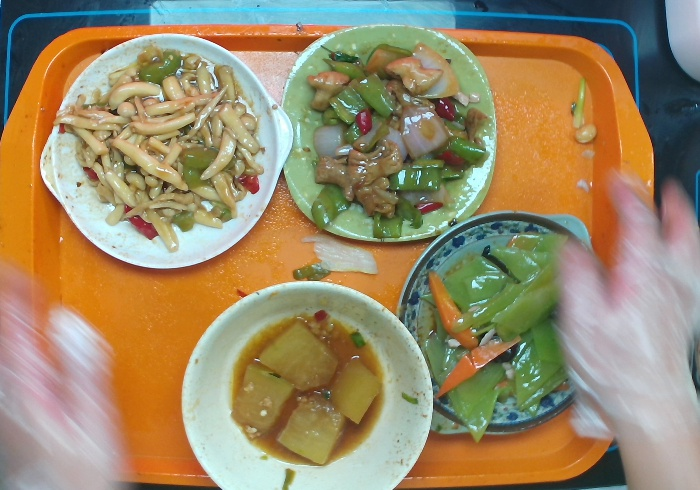NLDX-Bai_Se_Shuang_Er_Die: (37, 30, 295, 271)
NLDX-Bai_Se_Yuan_Wan: (179, 277, 435, 490)
NLDX-Lv_Hua_Fang_Die: (277, 22, 498, 243)
NLDX-Qing_Hua_Shuang_Er_Die: (394, 208, 599, 438)
